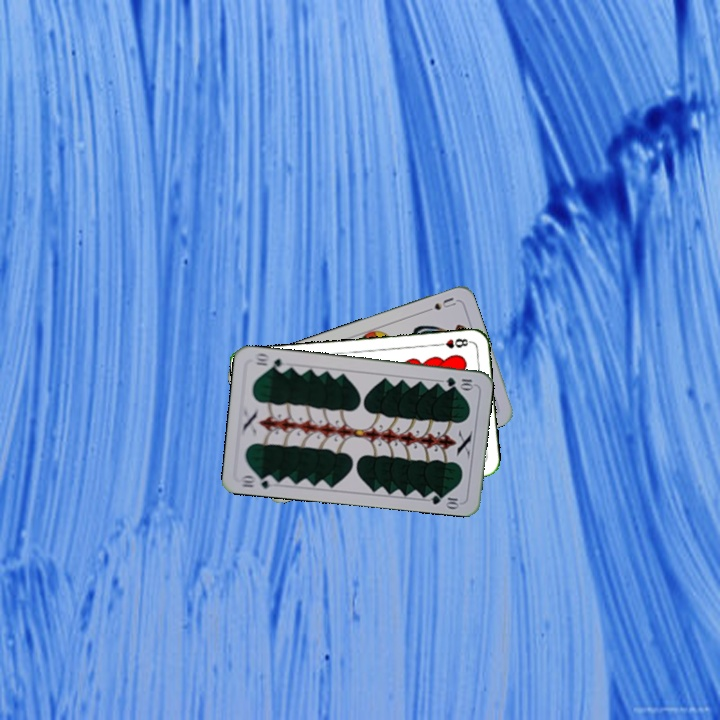G10: (236, 471, 278, 491), (442, 373, 476, 391)
H8: (433, 334, 473, 351)
SU: (419, 293, 458, 316)
